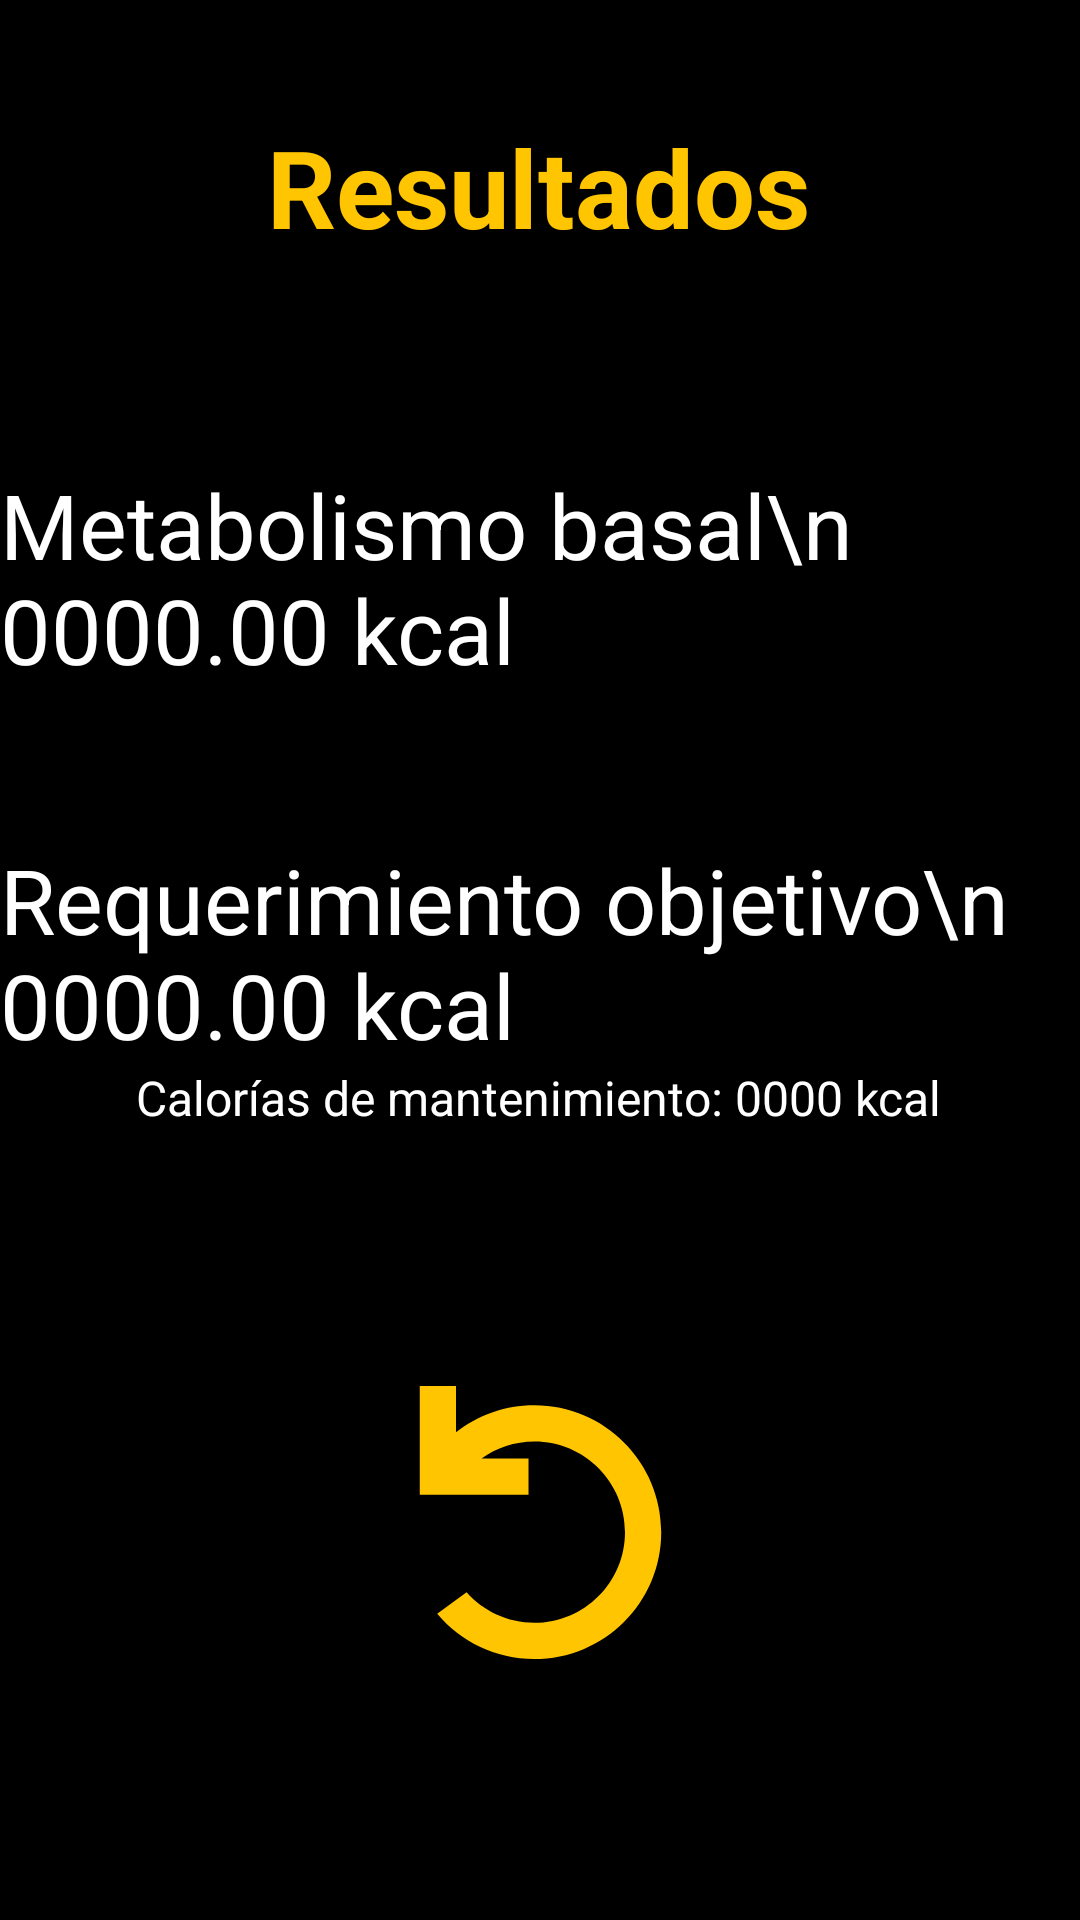

Icon click points for this 1080*1920 phone screenshot, format point (x, y):
reload: point (540, 1522)
